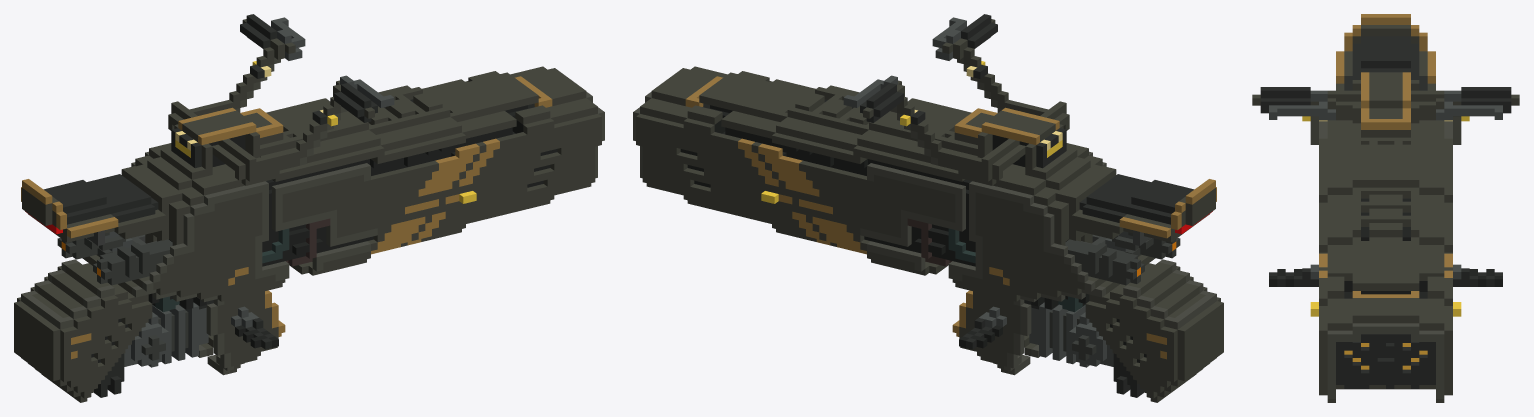
Rendered from gunbike.glb.
The picture shows the model from 3 angles, left to right: view 1: azimuth 30°, elevation 25°; view 2: azimuth 150°, elevation 25°; view 3: azimuth 270°, elevation 25°; orthographic projection. The views are drawn at different scales.
Parts seen in each view (by area): view 1: gunbike; view 2: gunbike; view 3: gunbike.
Boxes of the visible parts, left/top/right/bottom form: gunbike: left=14, top=14, right=604, bottom=402; gunbike: left=633, top=14, right=1223, bottom=402; gunbike: left=1252, top=14, right=1519, bottom=402.
Size of the model in its own units: 8 by 3.9 by 3.2.
1 material, 1 textured.
